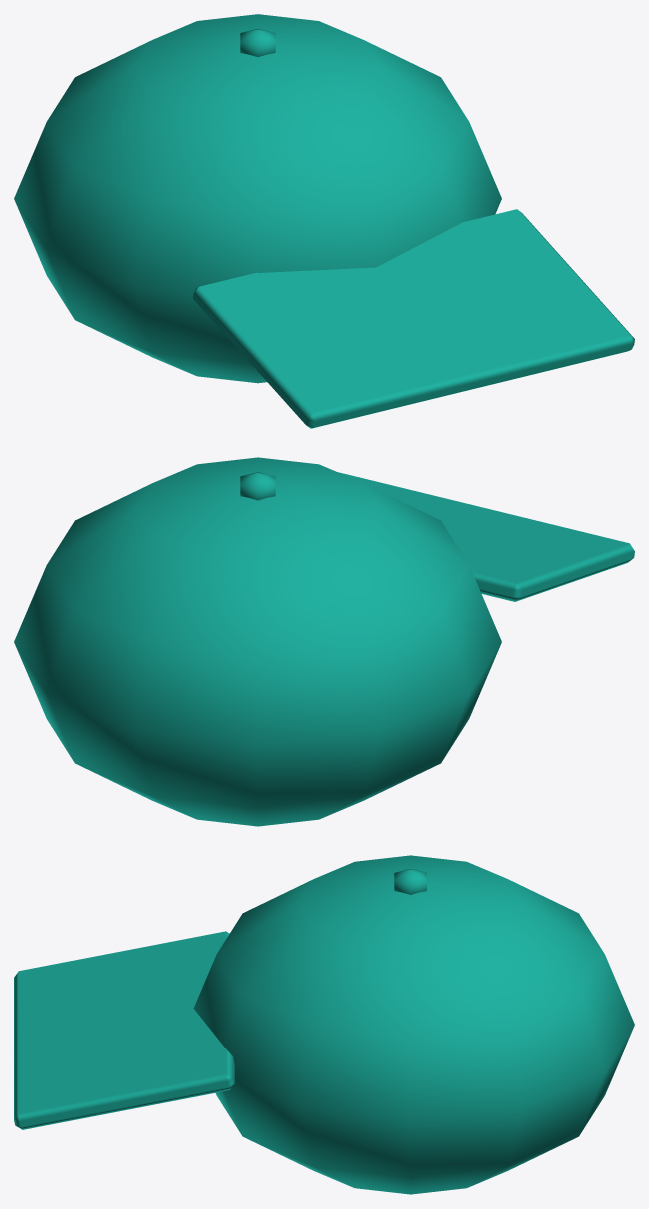
Rendered from CM_Accessory_Cap_Teal.fbx.
3 renders of one model, top to bottom at view 1: azimuth 30°, elevation 25°; view 2: azimuth 150°, elevation 25°; view 3: azimuth 270°, elevation 25°, orthographic. The views are drawn at different scales.
Parts seen in each view (by area): view 1: Handle; view 2: Handle; view 3: Handle.
Boxes of the visible parts, box(x1,y1,x2,y2) form: Handle: box(14, 14, 634, 428); Handle: box(14, 457, 634, 826); Handle: box(14, 855, 634, 1194).
Bounding box in the file's own units: 1.44 × 1.99 × 1.05.
1 material, 1 textured.
